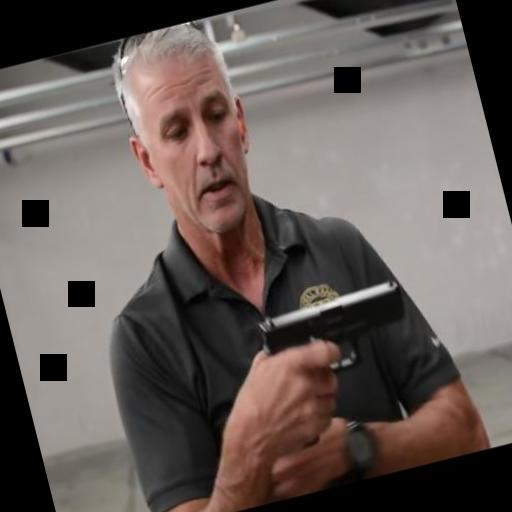Handgun: (250, 272, 431, 444)
